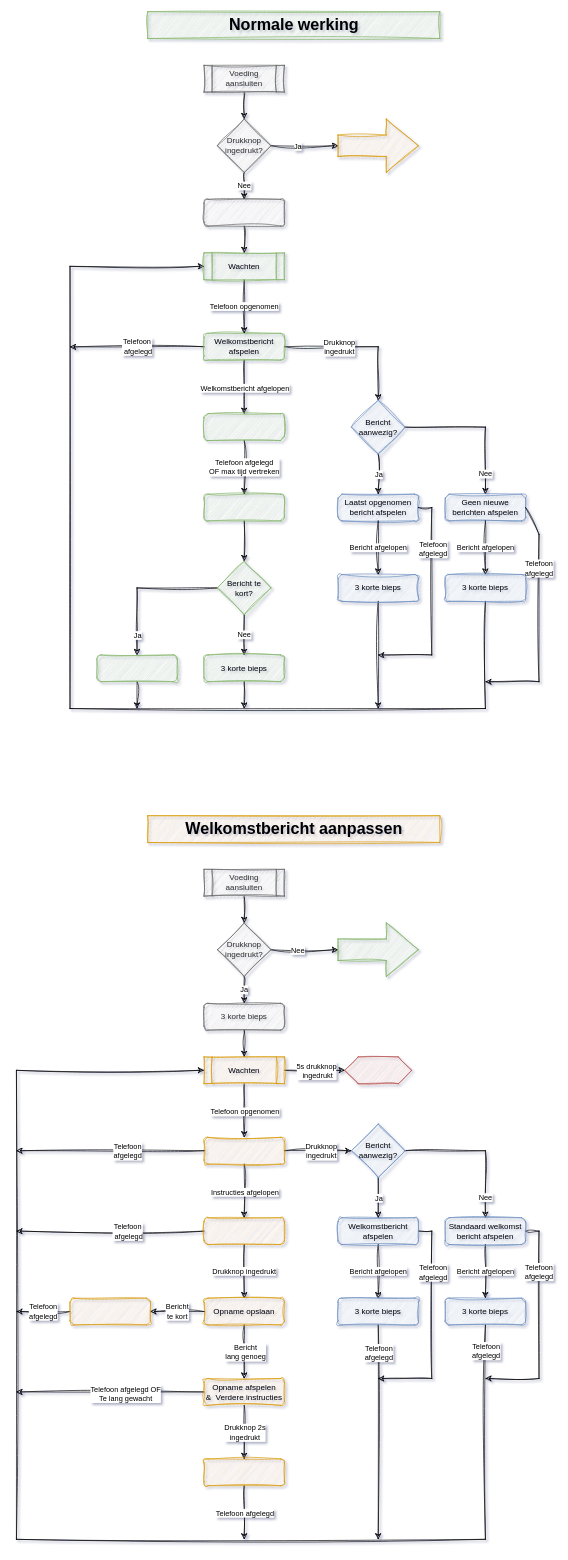
Image size: 568x1560. Some labels were removed from this diagram. The centre of each missing label's shape, as x and y in pixels:
"1 Lange biep (1s)" goes at (x=243, y=212).
"Bericht opslaan" goes at (x=243, y=507).
"Bericht verwijderen & Melding afspelen" goes at (x=109, y=1311).
"Biep toon & bericht opnemen" goes at (x=243, y=1231).
"Biep toon (0.5s) bericht opnemen" goes at (x=243, y=427).
"Instructies afspelen" goes at (x=243, y=1150).
"Media Transfer activeren" goes at (x=378, y=1070).
"Verwijder bericht" goes at (x=136, y=668).
"Welkomstbericht opgeslagen & 3 korte bieps" goes at (x=243, y=1472).
"Zie normale werking" goes at (x=377, y=949).
"Zie welkomstbericht aanpassen" goes at (x=377, y=145).
